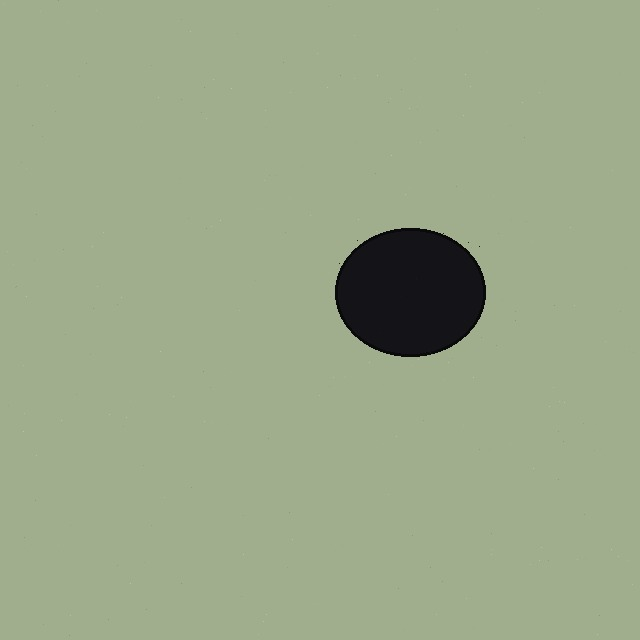pothole: (335, 228, 485, 356)
